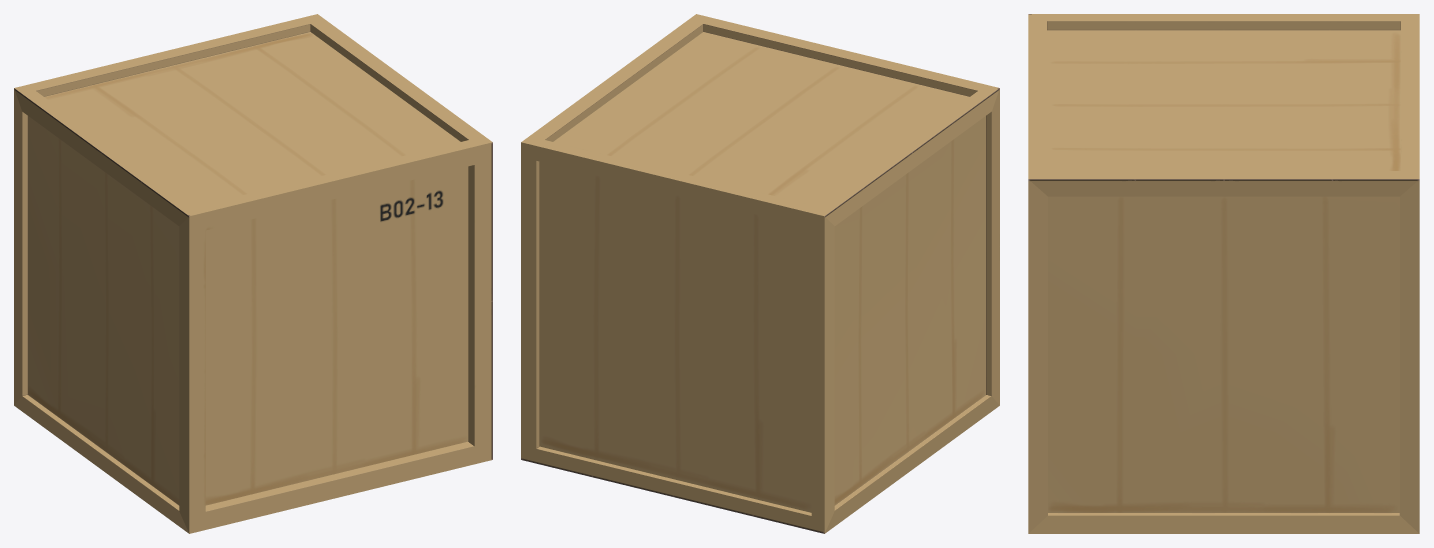
File: Crate_Destroyed.fbx
3 renders of one model, left to right at view 1: azimuth 30°, elevation 25°; view 2: azimuth 150°, elevation 25°; view 3: azimuth 270°, elevation 25°, orthographic. The views are drawn at different scales.
Visible parts, largest first — view 1: shard2, shard3, shard1; view 2: shard3, shard2, shard1; view 3: shard1, shard3, shard2.
Part boxes in pixels (x1,y1,x2,y2): shard2: (14,71,492,533); shard3: (36,14,468,216); shard1: (189,165,492,533); shard3: (521,24,999,482); shard2: (649,14,999,533); shard1: (521,302,673,496); shard1: (1028,179,1419,533); shard3: (1028,14,1419,196); shard2: (1028,14,1419,354).
Bounding box in the file's own units: 8.89 × 8.86 × 8.86.
